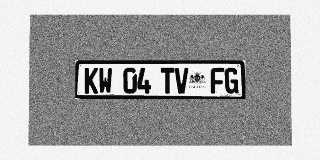0: (123, 68, 137, 94)
4: (137, 68, 151, 94)
F: (211, 68, 224, 94)
G: (225, 68, 238, 94)
K: (84, 68, 98, 94)
T: (161, 68, 174, 94)
V: (175, 68, 188, 94)
W: (98, 68, 112, 94)
